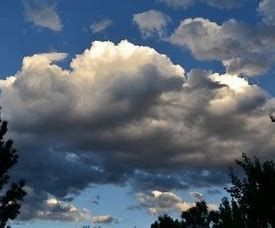Cumulus: (10, 33, 275, 188), (167, 10, 275, 77)
